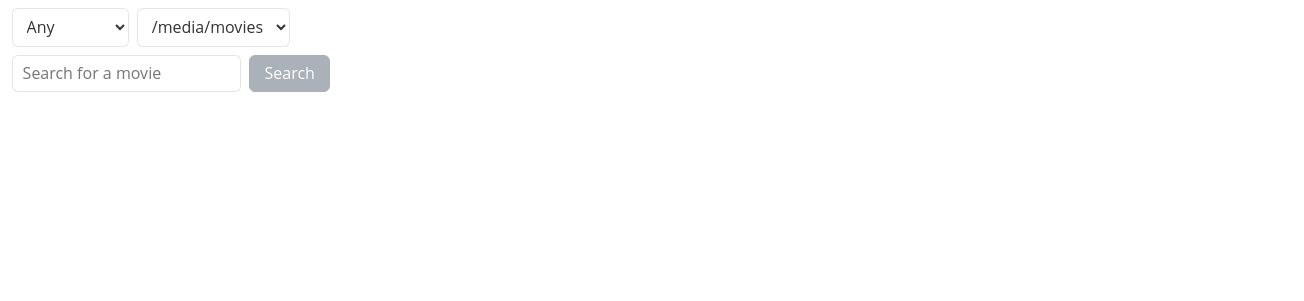
Test: AddSection › should add the chosen result with the selected quality profile and root folder
Select "HD-1080p" in the dropdown named "Quality profile" at (71, 27), box [12,8,129,47]
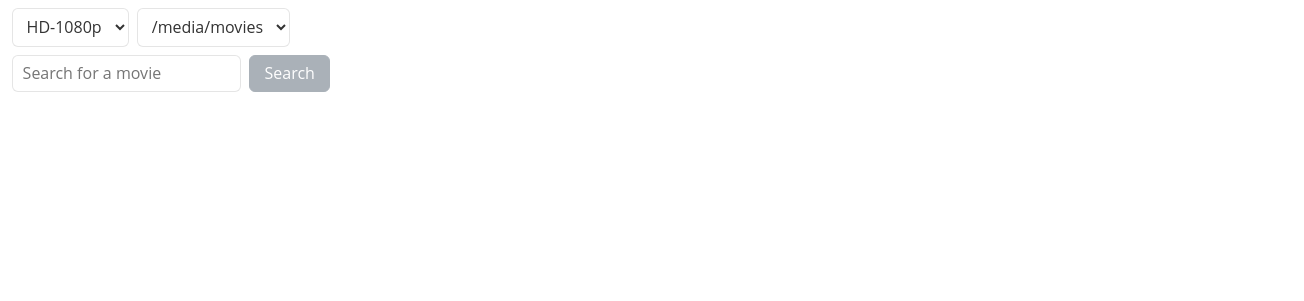
Type "arrival" into the field labelled "Search for a movie" at (127, 73), box [12,55,241,92]
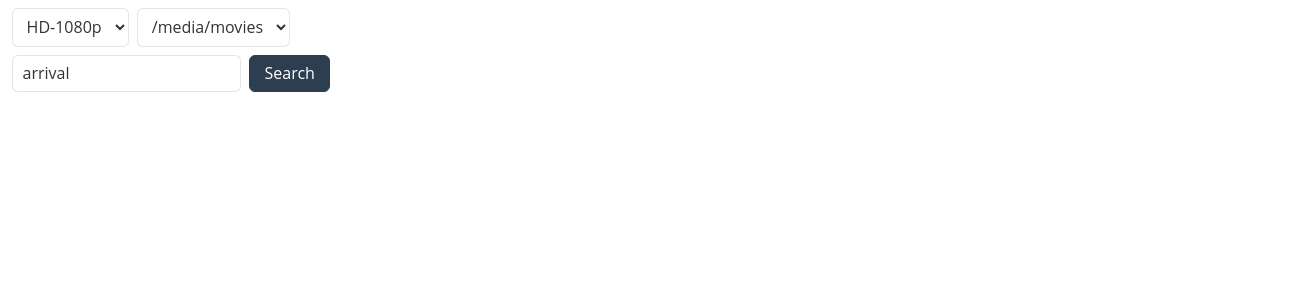
Click the button "Search" at (290, 73), box [249,55,330,92]
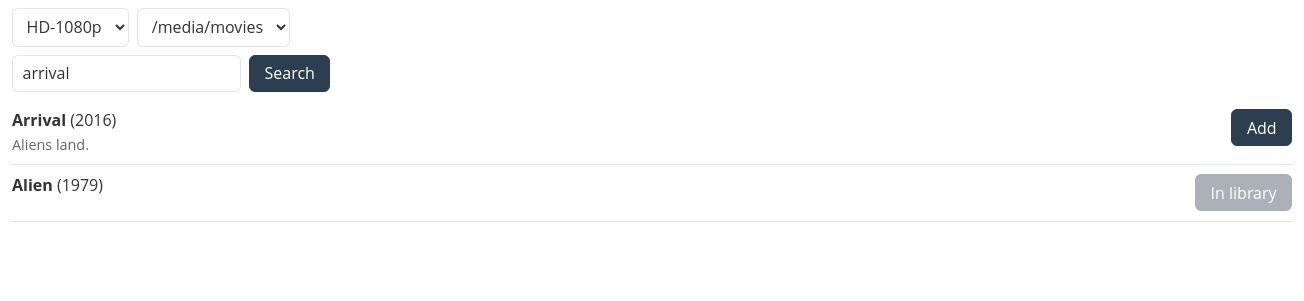
Click the button with aria-label "Add Arrival" at (1262, 128), box [1232,109,1292,146]
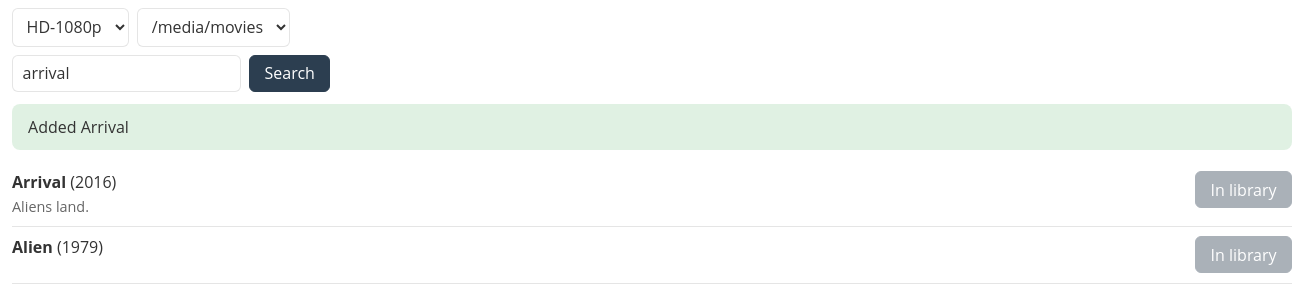
Expected: the text "Added Arrival" is shown, [12,104,1292,150]
Expected: the button with aria-label "Add Arrival" is disabled, [1195,171,1292,208]
